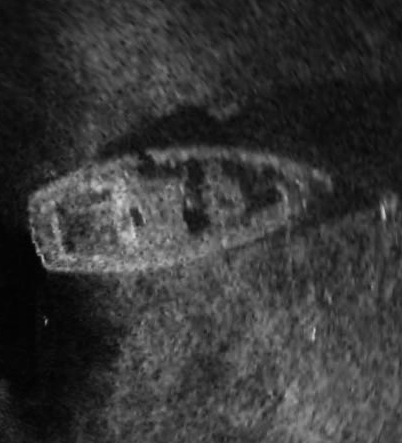ship: (24, 143, 337, 278)
